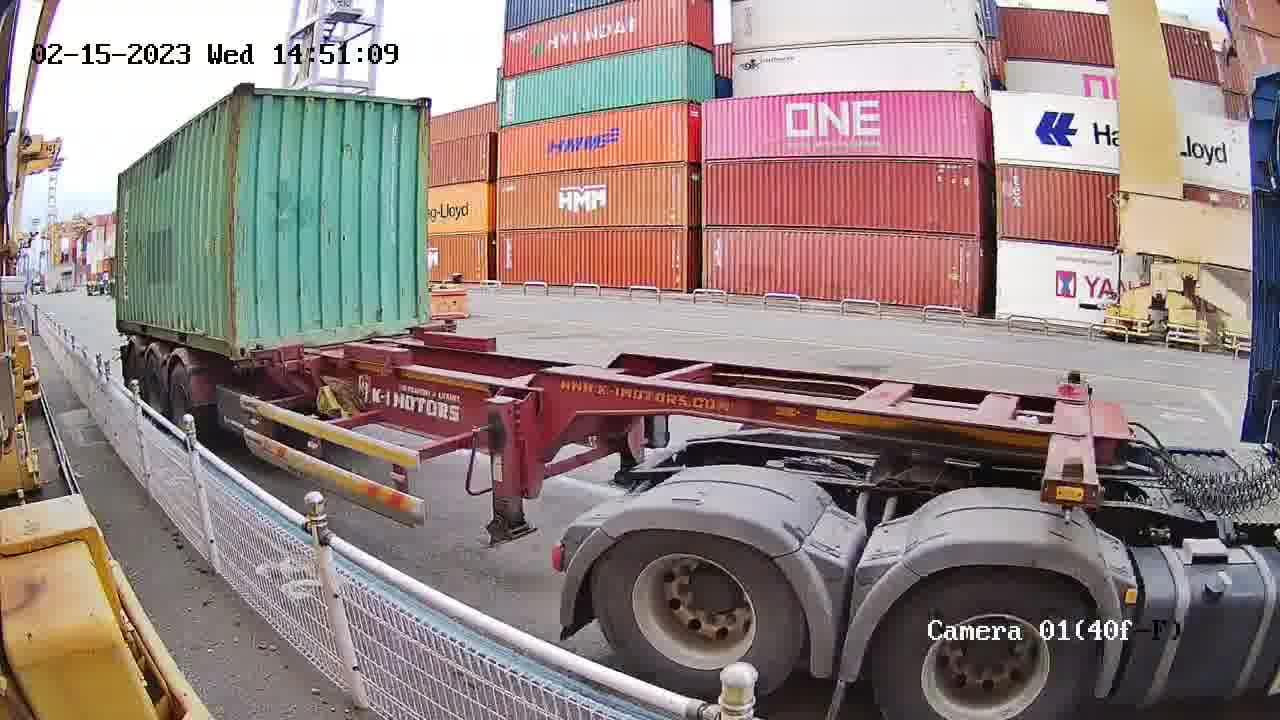Hole_L: (236, 323, 267, 360)
Hole_R: (215, 323, 237, 362)
Tire: (589, 528, 807, 695), (870, 567, 1107, 719), (166, 364, 191, 423), (143, 356, 162, 409), (119, 346, 136, 382)
